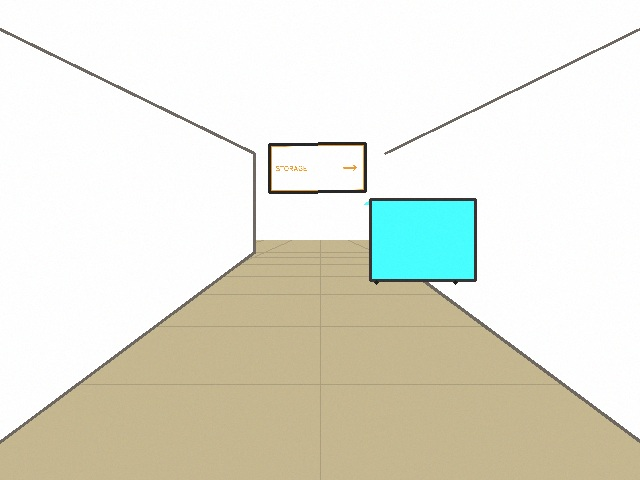cart: (364, 199, 475, 280)
directional_sign: (269, 143, 365, 192)
